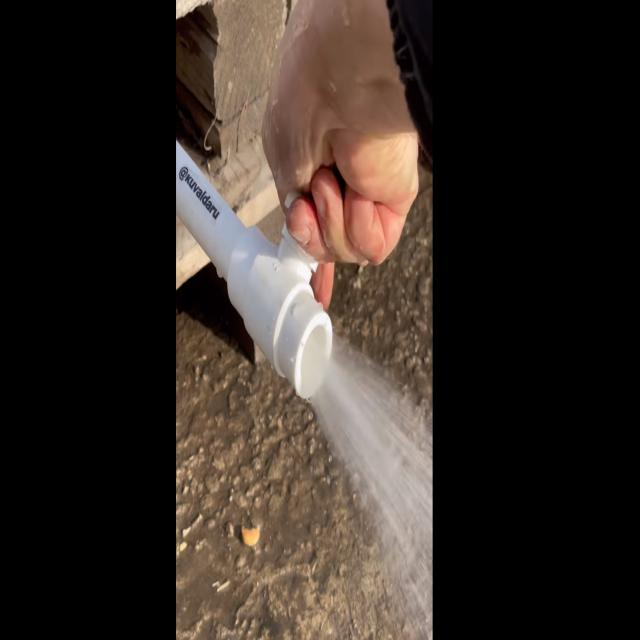leak: (299, 314, 440, 640)
